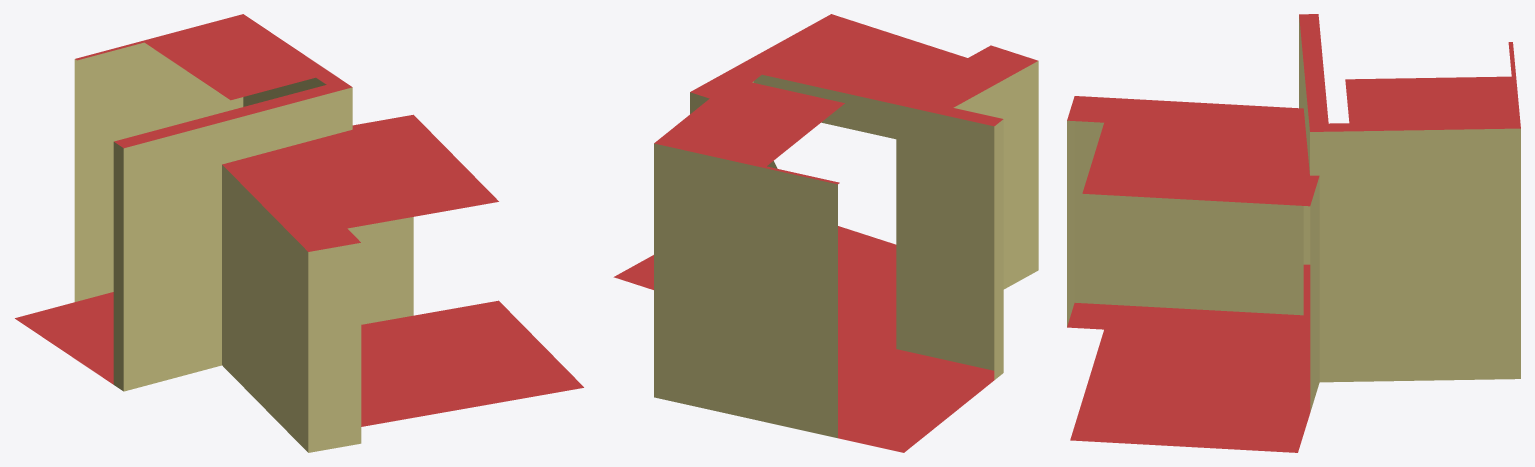
3 renders of one model, left to right at view 1: azimuth 30°, elevation 25°; view 2: azimuth 150°, elevation 25°; view 3: azimuth 270°, elevation 25°, orthographic. The views are drawn at different scales.
Size of the model in its own units: 11.63 by 11.64 by 7.09.
